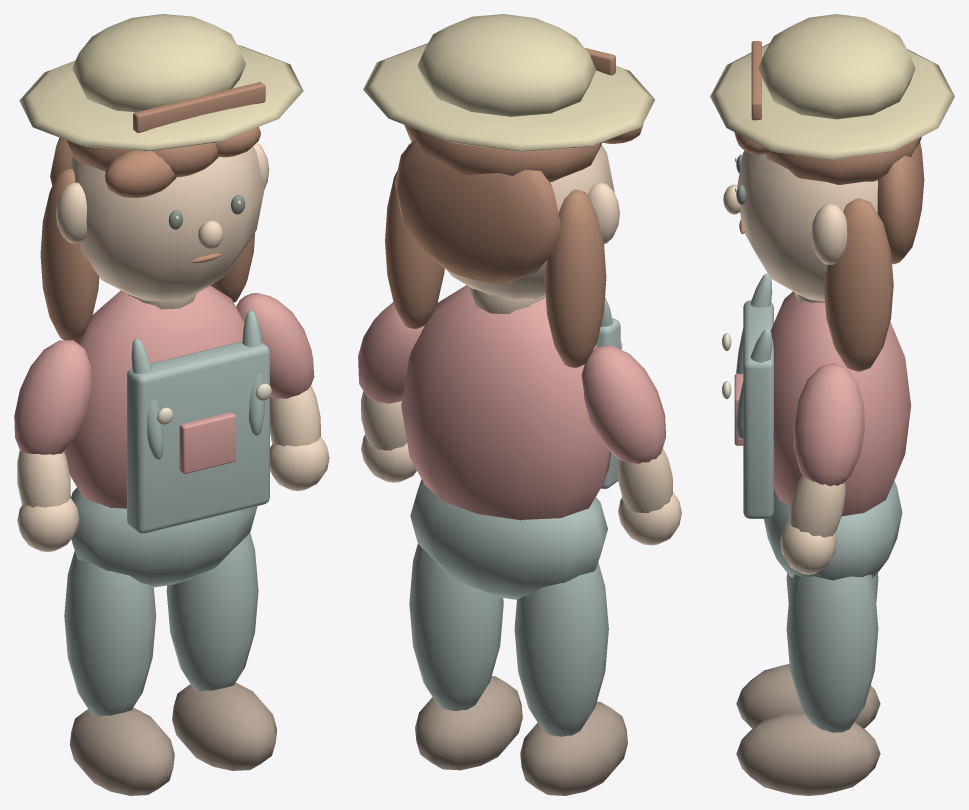
The model's file is abbie-idle.glb.
3 renders of one model, left to right at view 1: azimuth 30°, elevation 25°; view 2: azimuth 150°, elevation 25°; view 3: azimuth 270°, elevation 25°, orthographic. The views are drawn at different scales.
Parts seen in each view (by area): view 1: Overall bib, Head, Padded shirt, Straw crown, Soft straw brim, Trouser leg, Trouser leg.001, Soft trouser seat, Rounded boot, Rounded boot.001, Shirt sleeve, Long side lock (+17 smaller); view 2: Padded shirt, Hair back, Straw crown, Soft straw brim, Soft trouser seat, Trouser leg, Trouser leg.001, Long side lock, Shirt sleeve, Rounded boot, Rounded boot.001, Long side lock.001 (+10 smaller); view 3: Padded shirt, Straw crown, Trouser leg.001, Soft straw brim, Head, Long side lock.001, Rounded boot.001, Shirt sleeve.001, Overall bib, Soft trouser seat, Hair back, Rounded boot (+7 smaller).
Boxes of the visible parts, x1,y1,x2,y2 form: Overall bib: (127, 341, 269, 533); Head: (70, 146, 264, 301); Padded shirt: (63, 285, 244, 508); Straw crown: (72, 14, 245, 112); Soft straw brim: (19, 45, 303, 151); Trouser leg: (64, 551, 156, 716); Trouser leg.001: (166, 532, 258, 691); Soft trouser seat: (71, 487, 257, 587); Rounded boot: (70, 707, 174, 795); Rounded boot.001: (172, 682, 276, 770); Shirt sleeve: (14, 340, 91, 454); Long side lock: (40, 168, 99, 341); Padded shirt: (401, 285, 611, 520); Hair back: (394, 140, 560, 283); Straw crown: (417, 14, 595, 116); Soft straw brim: (363, 43, 654, 151); Soft trouser seat: (410, 479, 607, 599); Trouser leg: (514, 562, 608, 736); Trouser leg.001: (409, 543, 503, 710); Long side lock: (544, 189, 606, 368); Shirt sleeve: (581, 345, 665, 463); Rounded boot: (520, 701, 627, 795); Rounded boot.001: (415, 676, 522, 770); Long side lock.001: (385, 171, 444, 329); Padded shirt: (770, 291, 911, 516); Straw crown: (758, 14, 915, 119); Trouser leg.001: (786, 574, 878, 732); Soft straw brim: (710, 43, 954, 159); Head: (737, 150, 877, 301); Long side lock.001: (823, 198, 893, 372); Rounded boot.001: (736, 712, 880, 795); Shirt sleeve.001: (793, 363, 864, 486); Overall bib: (743, 300, 773, 518); Soft trouser seat: (764, 481, 902, 580); Hair back: (877, 142, 924, 264); Rounded boot: (736, 664, 880, 728).
Bounding box in the file's own units: 0.7093 × 1.64 × 0.4928.
